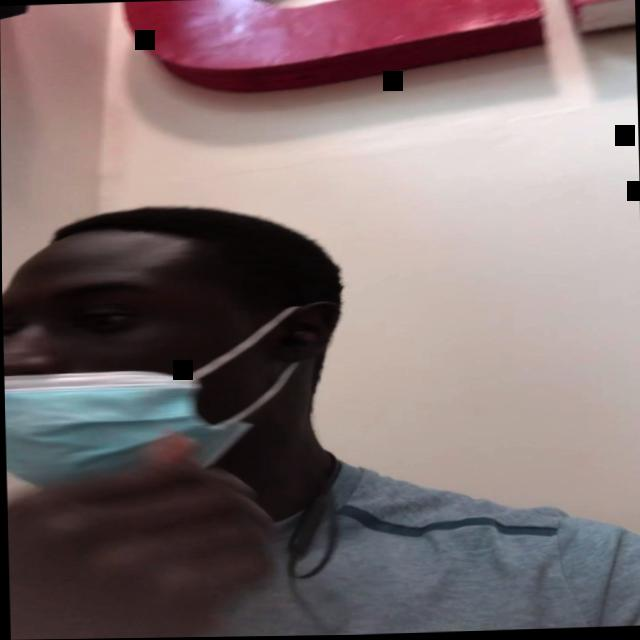Mask: (1, 243, 297, 494)
